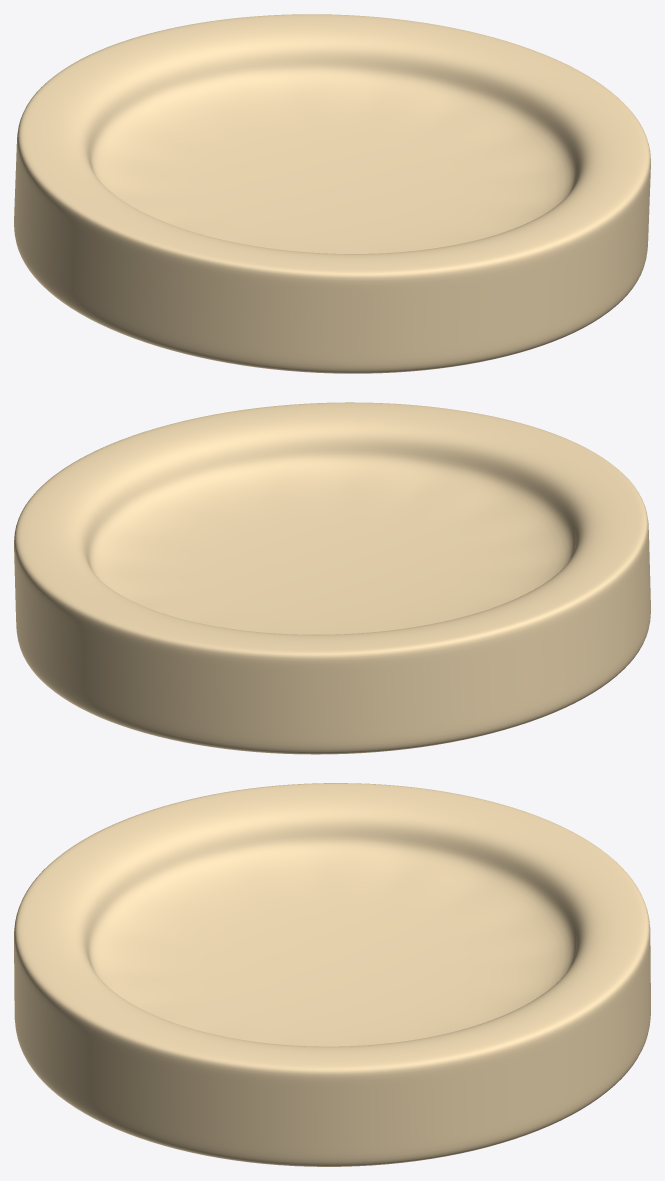
The model's file is coin.fbx.
3 renders of one model, top to bottom at view 1: azimuth 30°, elevation 25°; view 2: azimuth 150°, elevation 25°; view 3: azimuth 270°, elevation 25°, orthographic.
Visible parts, largest first — view 1: Coin; view 2: Coin; view 3: Coin.
Boxes of the visible parts, x1,y1,x2,y2 form: Coin: (14,14,650,373); Coin: (14,402,650,754); Coin: (14,783,650,1166).
Size of the model in its own units: 30.79 by 6.57 by 30.7.
